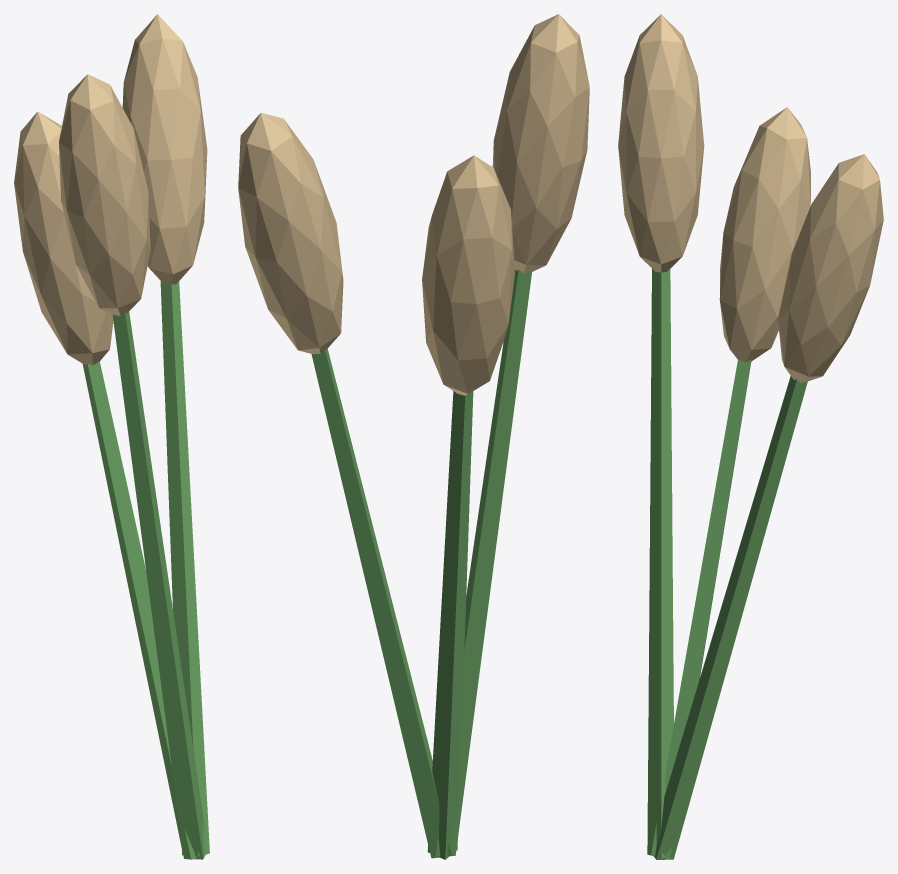
Rendered from deco_foxtail.obj.
The picture shows the model from 3 angles, left to right: view 1: azimuth 30°, elevation 25°; view 2: azimuth 150°, elevation 25°; view 3: azimuth 270°, elevation 25°; orthographic projection. The views are drawn at different scales.
Parts seen in each view (by area): view 1: deco_foxtail; view 2: deco_foxtail; view 3: deco_foxtail.
Part boxes in pixels (<box>): deco_foxtail: <box>14,14,209,859</box>; deco_foxtail: <box>238,14,589,859</box>; deco_foxtail: <box>618,14,883,859</box>.
Bounding box in the file's own units: 0.0293 × 0.1014 × 0.0308.
1 material, 1 textured.
